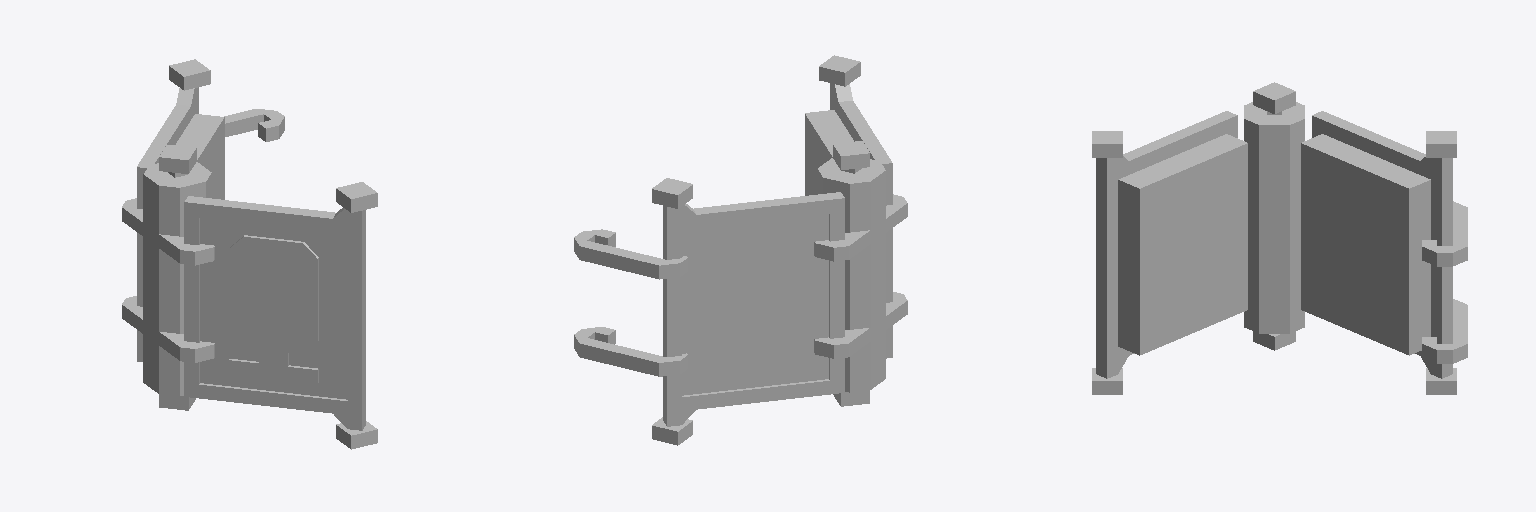
File: grimoire_undead_open.obj
The picture shows the model from 3 angles: view 1: azimuth 30°, elevation 25°; view 2: azimuth 150°, elevation 25°; view 3: azimuth 270°, elevation 25°; orthographic projection.
Parts seen in each view (by area): view 1: COVER_FRONT_VAR7_OPEN_Cube.170, SPINE_VAR7_OPEN_Cube.173, COVER_BACK_VAR7_OPEN_Cube.175, PAGES_FRONT_VAR7_OPEN_Cube.171; view 2: COVER_BACK_VAR7_OPEN_Cube.175, SPINE_VAR7_OPEN_Cube.173, COVER_FRONT_VAR7_OPEN_Cube.170, PAGES_BACK_VAR7_OPEN_Cube.172; view 3: PAGES_BACK_VAR7_OPEN_Cube.172, PAGES_FRONT_VAR7_OPEN_Cube.171, SPINE_VAR7_OPEN_Cube.173, COVER_BACK_VAR7_OPEN_Cube.175, COVER_FRONT_VAR7_OPEN_Cube.170.
Part boxes in pixels (bbox=[...]): COVER_FRONT_VAR7_OPEN_Cube.170: bbox=[159, 182, 377, 449]; SPINE_VAR7_OPEN_Cube.173: bbox=[143, 145, 211, 410]; COVER_BACK_VAR7_OPEN_Cube.175: bbox=[122, 59, 284, 361]; PAGES_FRONT_VAR7_OPEN_Cube.171: bbox=[175, 114, 224, 199]; COVER_BACK_VAR7_OPEN_Cube.175: bbox=[574, 178, 870, 445]; SPINE_VAR7_OPEN_Cube.173: bbox=[817, 141, 885, 406]; COVER_FRONT_VAR7_OPEN_Cube.170: bbox=[819, 55, 907, 358]; PAGES_BACK_VAR7_OPEN_Cube.172: bbox=[805, 110, 853, 195]; PAGES_BACK_VAR7_OPEN_Cube.172: bbox=[1118, 134, 1247, 355]; PAGES_FRONT_VAR7_OPEN_Cube.171: bbox=[1301, 134, 1430, 355]; SPINE_VAR7_OPEN_Cube.173: bbox=[1244, 82, 1304, 350]; COVER_BACK_VAR7_OPEN_Cube.175: bbox=[1312, 111, 1467, 394]; COVER_FRONT_VAR7_OPEN_Cube.170: bbox=[1092, 111, 1237, 394].
Bounding box in the file's own units: 1.01 × 1.12 × 1.53.